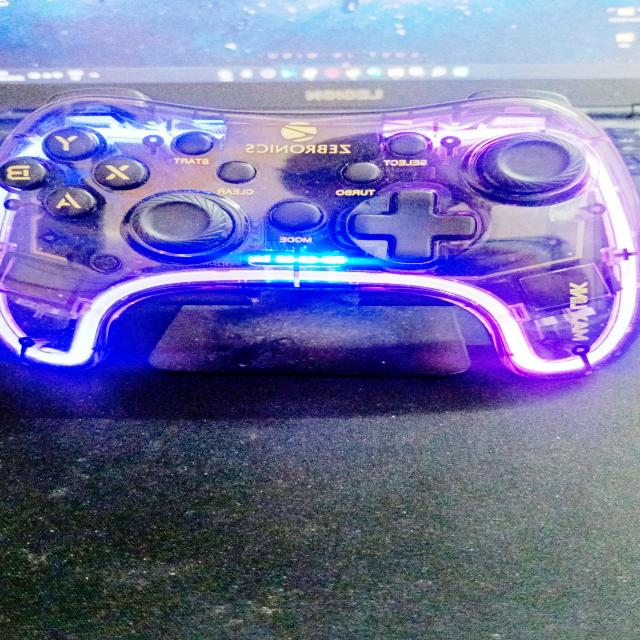gamepad: (0, 87, 640, 379)
